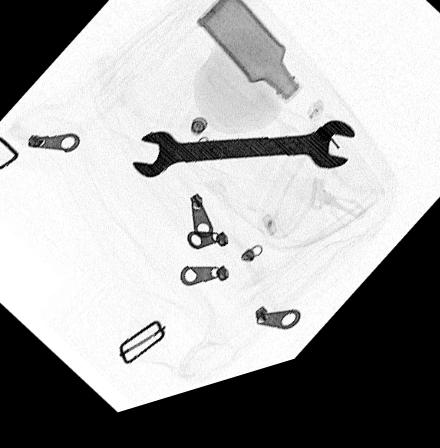Wrench: (131, 136, 355, 188)
